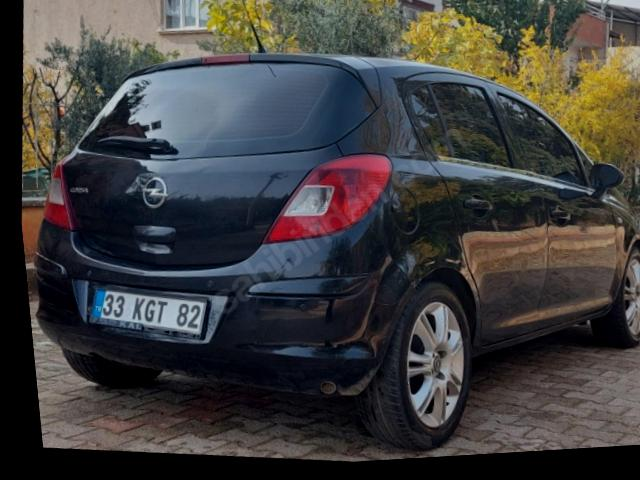plaka: (82, 288, 208, 339)
